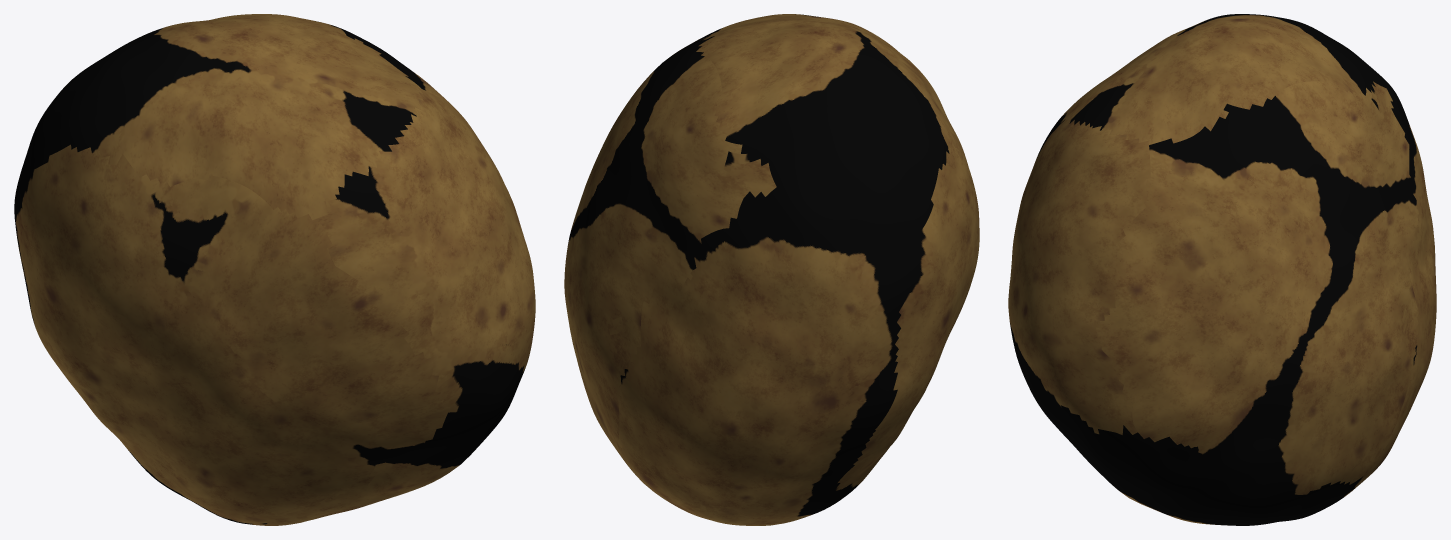
3 renders of one model, left to right at view 1: azimuth 30°, elevation 25°; view 2: azimuth 150°, elevation 25°; view 3: azimuth 270°, elevation 25°, orthographic. The views are drawn at different scales.
Visible parts, largest first — view 1: original_ico.005; view 2: original_ico.005; view 3: original_ico.005.
Part boxes in pixels (x1,y1,x2,y2): original_ico.005: (14, 14, 535, 525); original_ico.005: (564, 14, 979, 525); original_ico.005: (1008, 14, 1436, 525).
Size of the model in its own units: 3.38 by 3.96 by 3.36.
